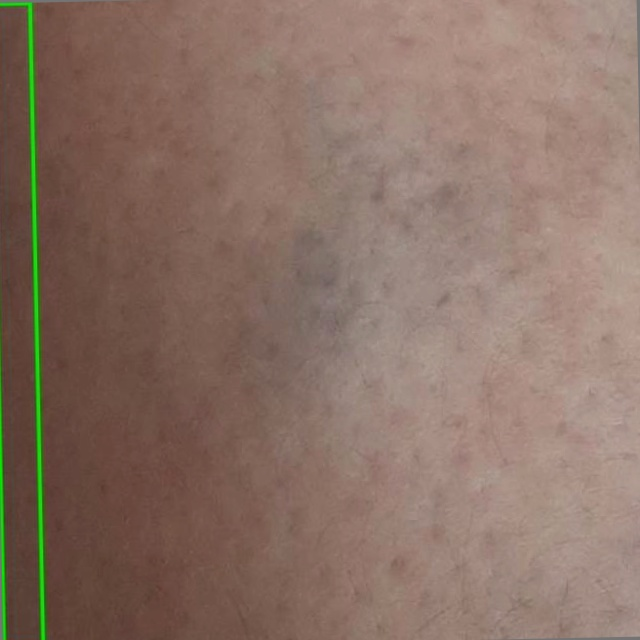Eczema: (0, 3, 43, 639)
